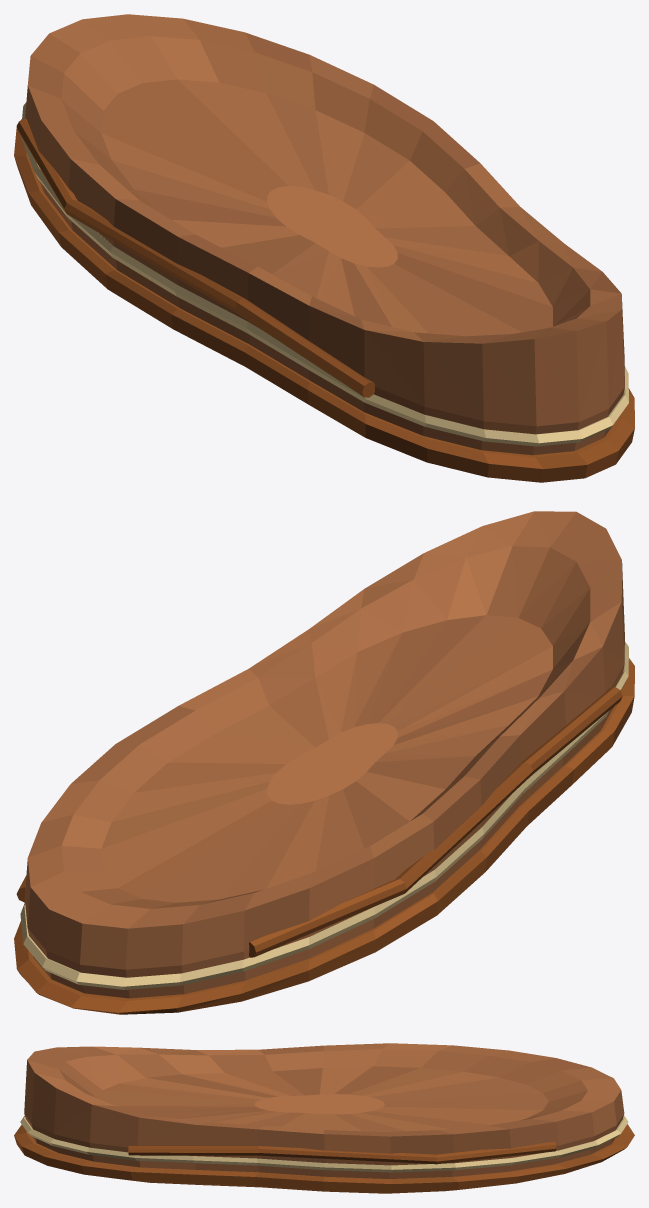
The model's file is ES_04_Carved_Clog_Footbed.fbx.
3 renders of one model, top to bottom at view 1: azimuth 30°, elevation 25°; view 2: azimuth 150°, elevation 25°; view 3: azimuth 270°, elevation 25°, orthographic. The views are drawn at different scales.
Parts seen in each view (by area): view 1: ES_04_Carved_Clog_Footbed; view 2: ES_04_Carved_Clog_Footbed; view 3: ES_04_Carved_Clog_Footbed.
Part boxes in pixels (x1,y1,x2,y2): ES_04_Carved_Clog_Footbed: (14, 14, 634, 482); ES_04_Carved_Clog_Footbed: (14, 511, 634, 1014); ES_04_Carved_Clog_Footbed: (14, 1043, 634, 1193).
Size of the model in its own units: 1 by 0.42 by 2.62.
